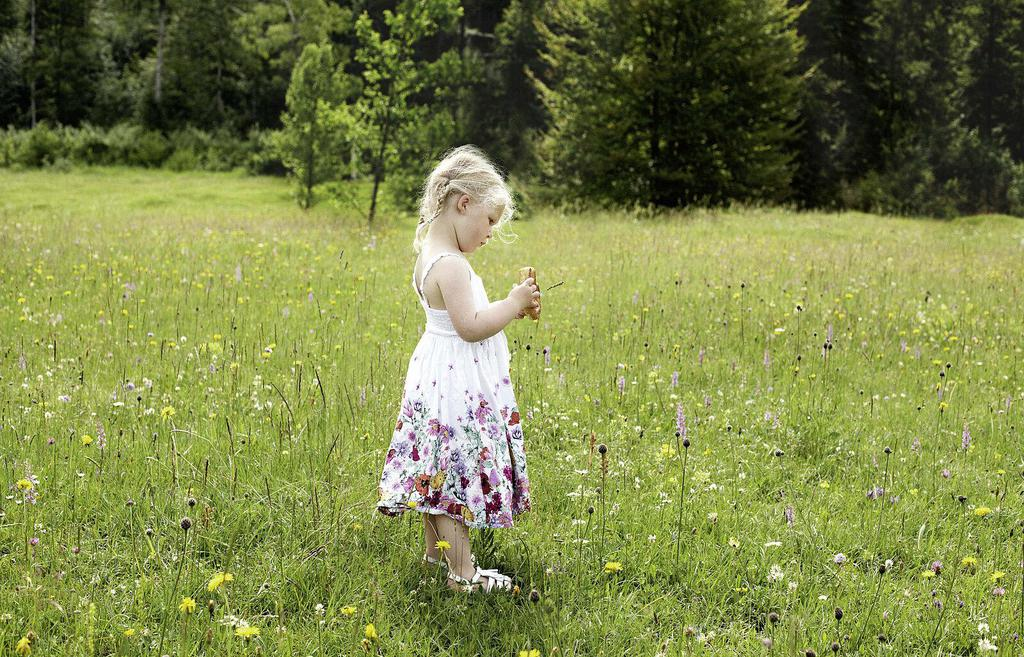child: (373, 143, 562, 595)
